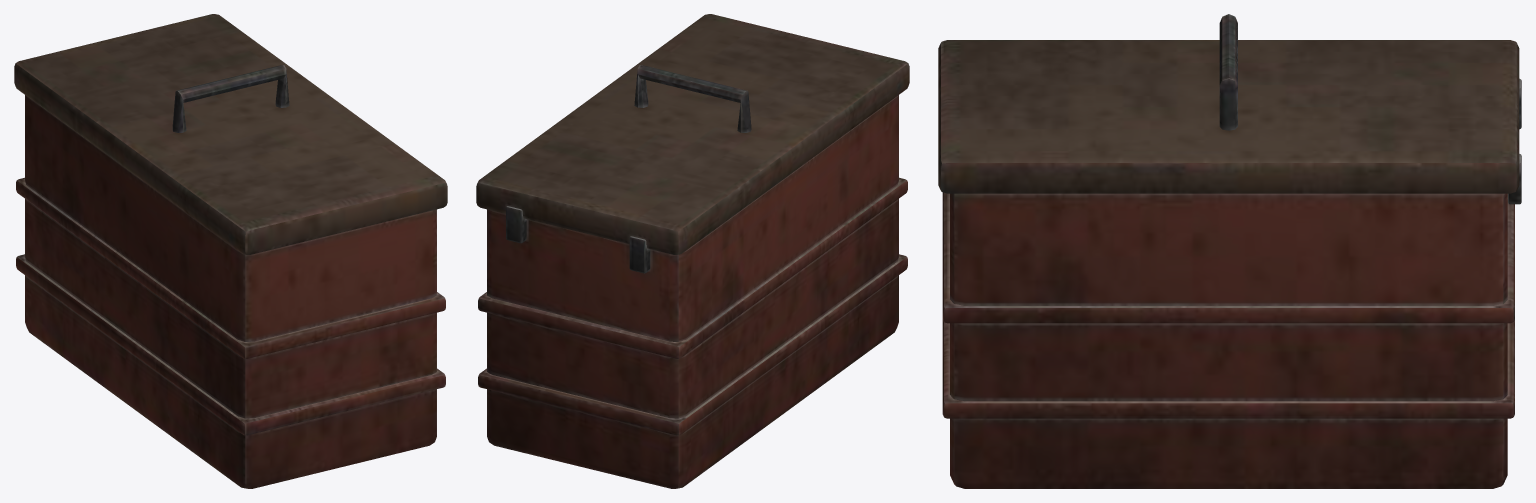
Rendered from pighcib_ammo_box.glb.
3 views of the same model, side by side, from view 1: azimuth 30°, elevation 25°; view 2: azimuth 150°, elevation 25°; view 3: azimuth 270°, elevation 25° (orthographic). The views are drawn at different scales.
Visible parts, largest first — view 1: pighcib_ammo_box; view 2: pighcib_ammo_box; view 3: pighcib_ammo_box.
Boxes of the visible parts, bbox=[...] form: pighcib_ammo_box: bbox=[14, 14, 447, 488]; pighcib_ammo_box: bbox=[476, 14, 909, 488]; pighcib_ammo_box: bbox=[938, 14, 1521, 488].
Size of the model in its own units: 0.13 by 0.188 by 0.256.
Materials: 1 (1 with a texture image).
